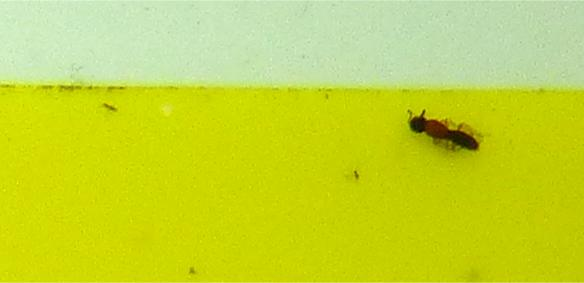Hymenoptera: (405, 108, 484, 158)
